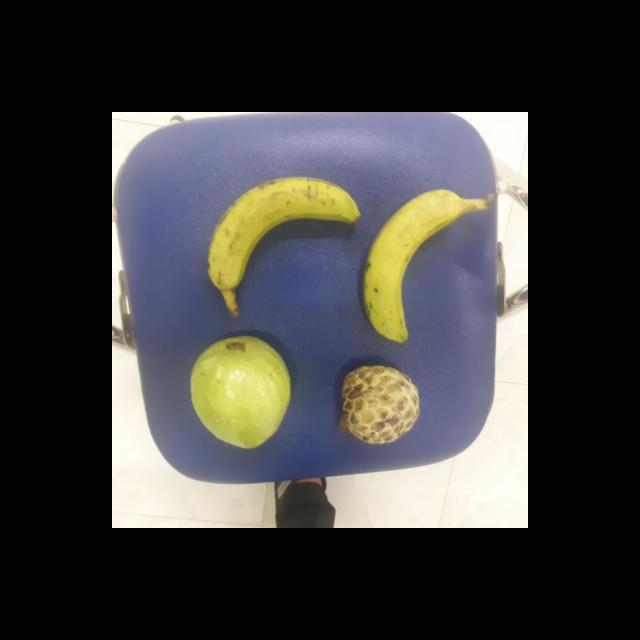Sakya fruit: (334, 364, 421, 446)
banana: (202, 176, 356, 293), (358, 192, 465, 342)
guava: (183, 336, 290, 448)
